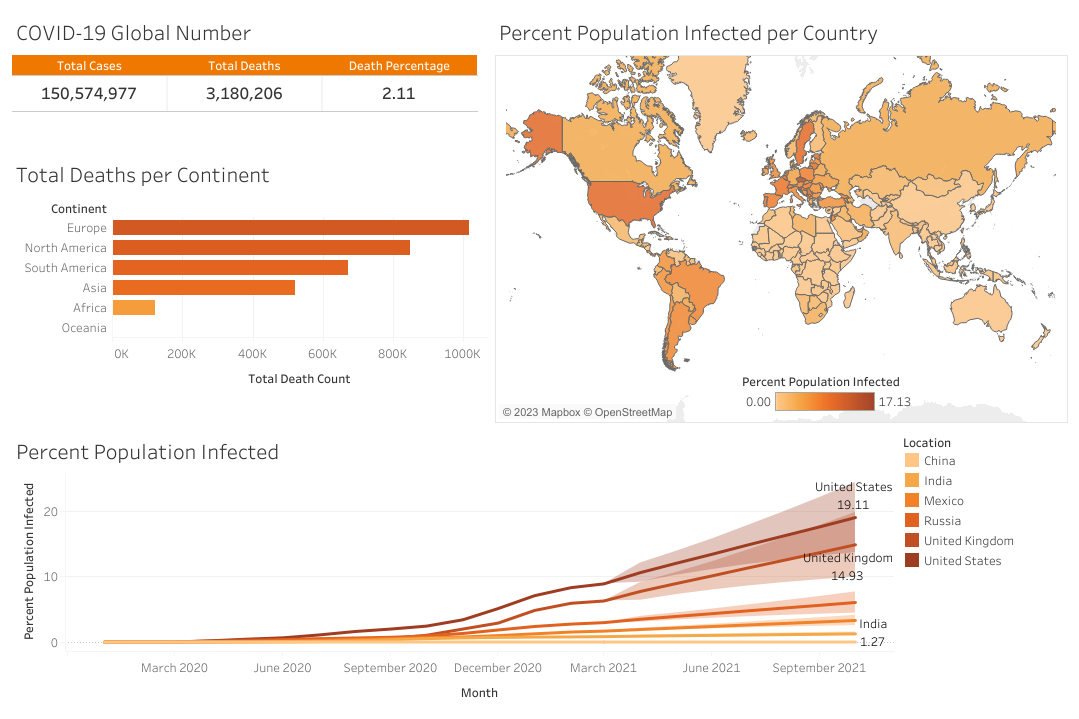

What the dashboard file says about the page in this screenshot:
{"tool":"tableau","page":{"name":"Dashboard 1","canvas":[1080,720],"ordinal":0},"visuals":[{"type":"worksheet","title":"Sheet 1","mark":"Automatic","box":[8,8,483,141.7]},{"type":"worksheet","title":"Sheet 3","mark":"Automatic","box":[491,8,581,419]},{"type":"worksheet","title":"Sheet 2","mark":"Automatic","rows":["location"],"cols":["TotalDeathCount"],"box":[8,149.7,483,277.3]},{"type":"legend","title":"Sheet 3","param":"[federated.10rjfuk1hu22331fhr8ya0f6bx1w].[sum:PercentPopulationInfected:qk]","box":[742,368,174,86]},{"type":"worksheet","title":"Sheet 4","mark":"Automatic","rows":["PercentPopulationInfected"],"cols":["date"],"box":[8,427,890.1,285]},{"type":"legend","title":"Sheet 4","param":"[federated.1wguhc70dj2t3z1974ec914zr6ip].[none:Location:nk]","box":[898.1,427,173.9,285]}]}

Visuals, with their boxes in screenshot pixels (x1, y1, x2, y2), scaled from the page's 1080x720 canvas onto the 1079x719 screenshot:
"Sheet 1" worksheet: select_region(8, 8, 491, 149)
"Sheet 3" worksheet: select_region(491, 8, 1071, 426)
"Sheet 2" worksheet: select_region(8, 149, 491, 426)
"Sheet 3" legend: select_region(741, 367, 915, 453)
"Sheet 4" worksheet: select_region(8, 426, 897, 711)
"Sheet 4" legend: select_region(897, 426, 1071, 711)
